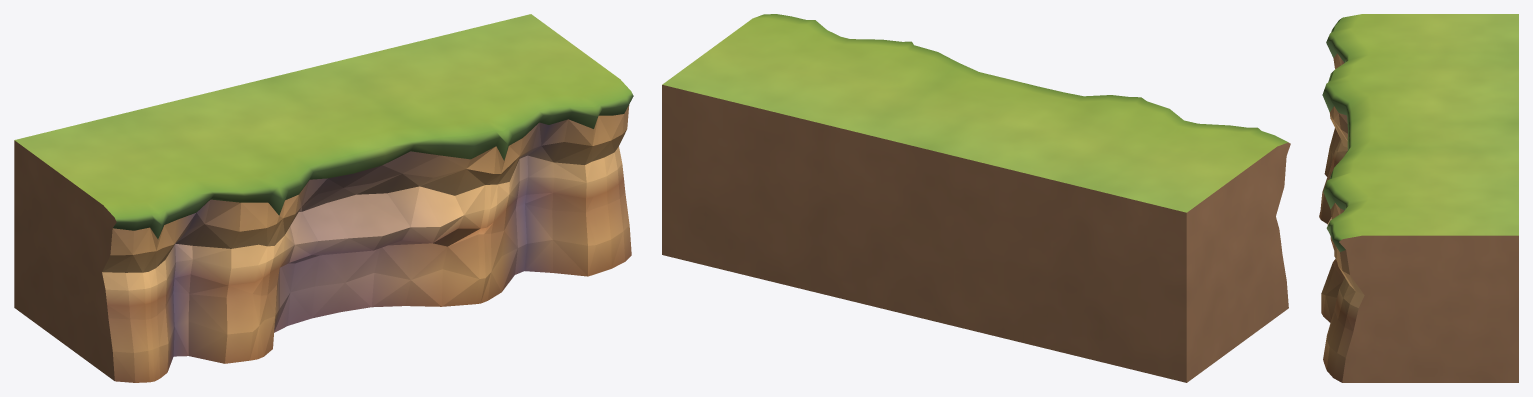
Rendered from sandstone_buttresses-B329Gn7Y.glb.
3 views of the same model, side by side, from view 1: azimuth 30°, elevation 25°; view 2: azimuth 150°, elevation 25°; view 3: azimuth 270°, elevation 25° (orthographic). The views are drawn at different scales.
Visible parts, largest first — view 1: sandstone_buttresses; view 2: sandstone_buttresses; view 3: sandstone_buttresses.
Part boxes in pixels (x1,y1,x2,y2): sandstone_buttresses: [14, 14, 633, 382]; sandstone_buttresses: [662, 14, 1290, 382]; sandstone_buttresses: [1319, 14, 1518, 382].
Bounding box in the file's own units: 2 × 0.62 × 0.762.
Materials: 1 (1 with a texture image).
